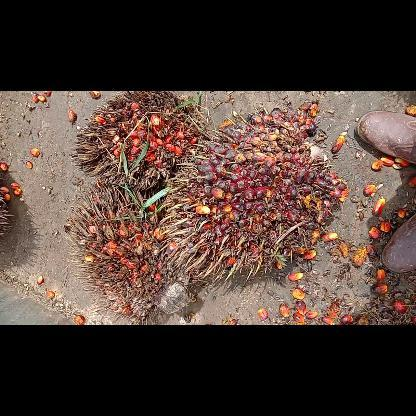TBS masak: (160, 104, 348, 286)
Terlalu masak: (62, 182, 200, 324), (70, 90, 206, 192)
